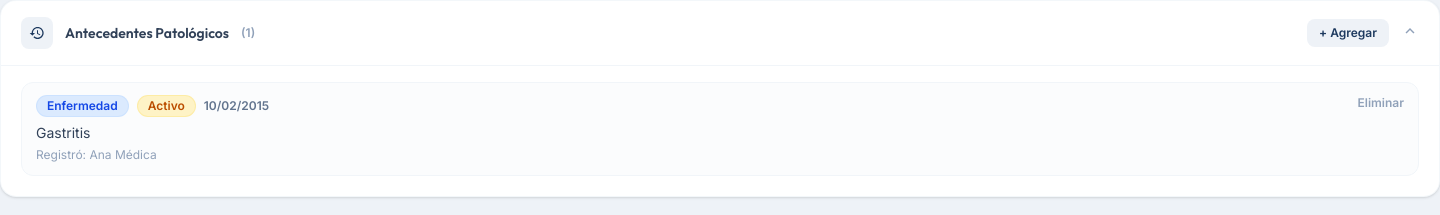
Test: HU-12 · antecedentes patológicos › el médico elimina un antecedente solo después de confirmar
Click the button with aria-label "Eliminar antecedente: Gastritis" at (1381, 103), box [1358, 95, 1404, 111]
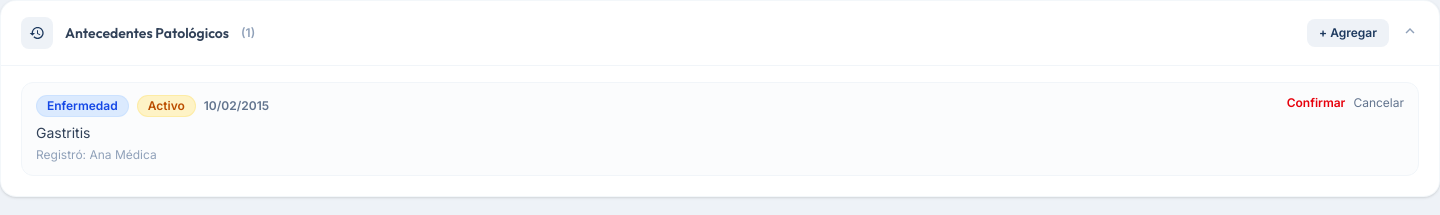
Click the button "Confirmar" at (1316, 103), box [1287, 95, 1345, 111]
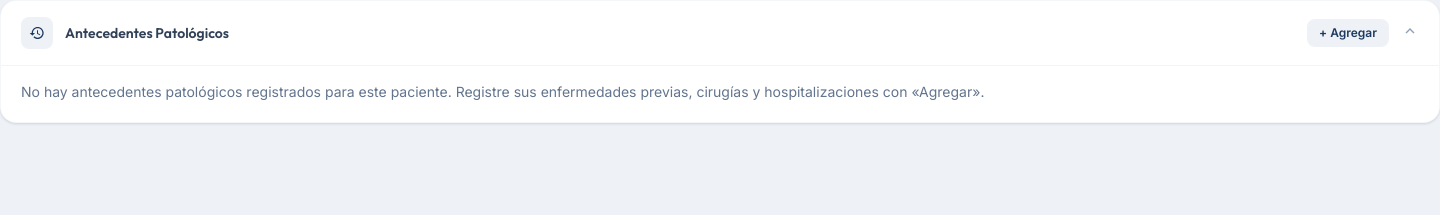
Check: the text "Gastritis" is gone
